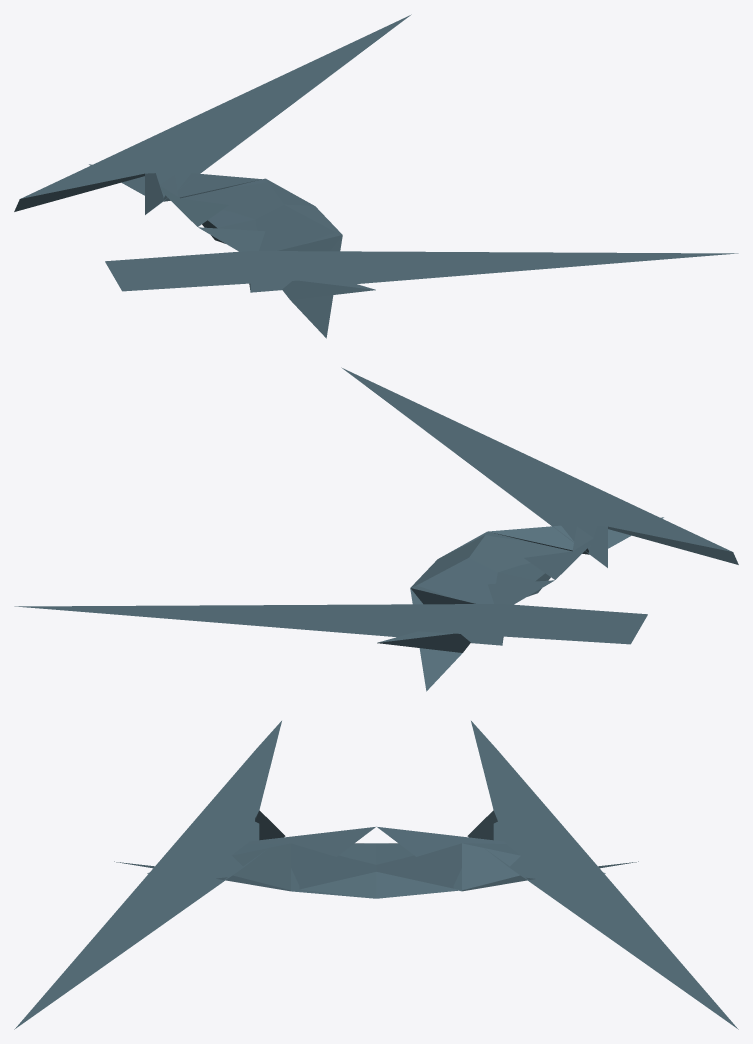
Rendered from spaceship.obj.
The picture shows the model from 3 angles, top to bottom: view 1: azimuth 30°, elevation 25°; view 2: azimuth 150°, elevation 25°; view 3: azimuth 270°, elevation 25°; orthographic projection. The views are drawn at different scales.
Visible parts, largest first — view 1: Cube; view 2: Cube; view 3: Cube.
Boxes of the visible parts, bbox=[...] form: Cube: bbox=[14, 14, 738, 338]; Cube: bbox=[14, 367, 738, 691]; Cube: bbox=[14, 721, 738, 1029].
Bounding box in the file's own units: 4.47 × 0.5039 × 4.93.
